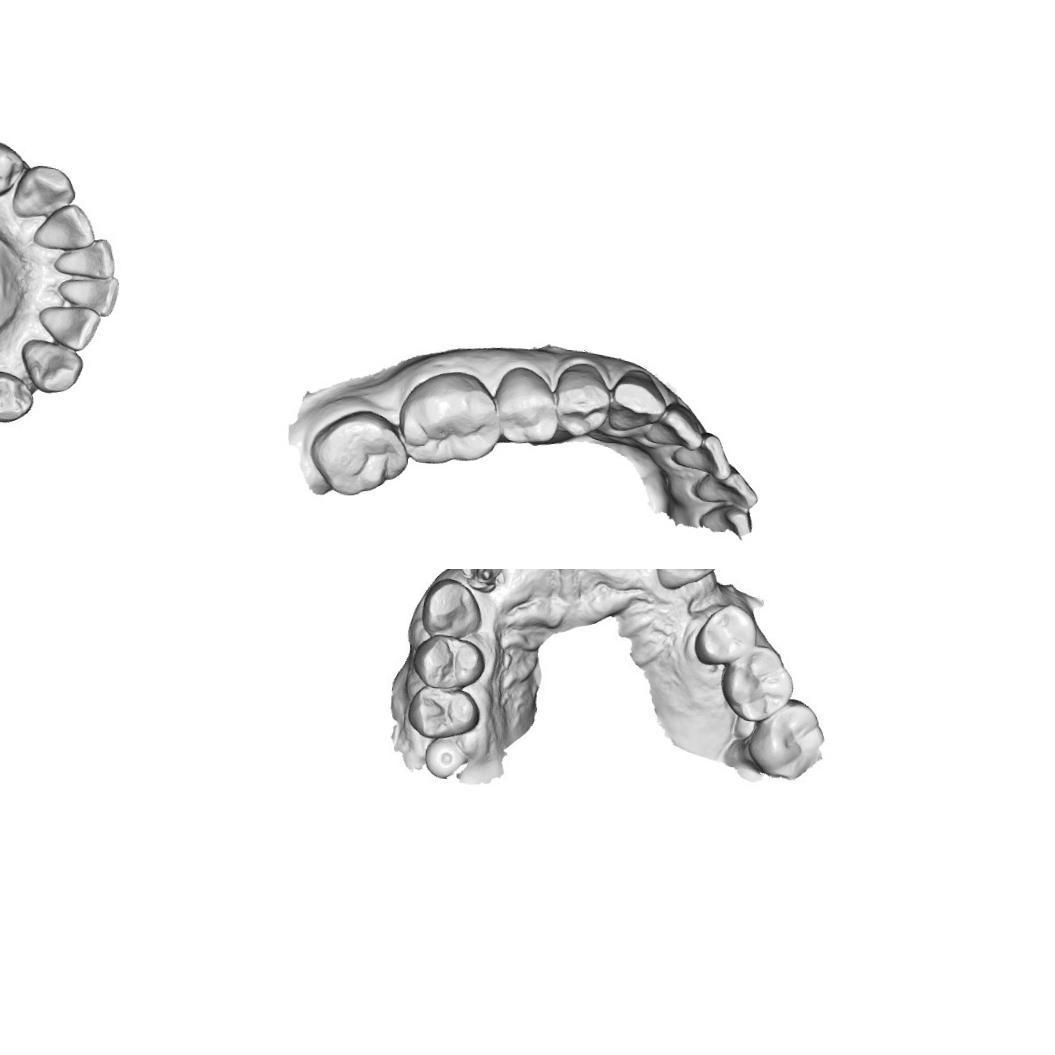canine: (604, 366, 668, 439), (418, 573, 482, 643), (13, 337, 87, 397), (10, 162, 75, 218), (652, 569, 721, 592)
implant: (468, 569, 508, 591)
incisor: (26, 201, 94, 256), (52, 233, 124, 282), (690, 463, 762, 512), (670, 429, 734, 480), (644, 398, 702, 454), (33, 300, 97, 350), (52, 271, 123, 315)
molar: (396, 366, 502, 470), (312, 402, 416, 504), (745, 694, 832, 786), (720, 639, 800, 722)
premolar: (488, 364, 564, 448), (551, 359, 612, 441), (692, 600, 754, 666), (418, 633, 484, 689), (409, 686, 475, 736), (0, 370, 33, 427), (0, 136, 24, 200)
